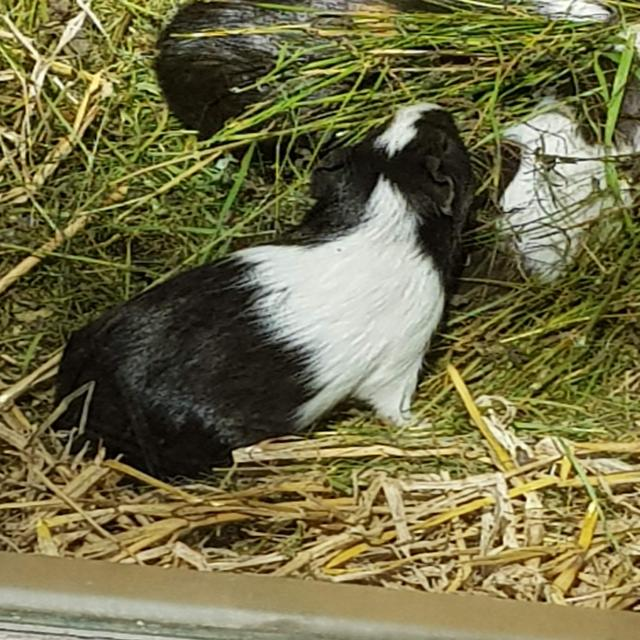guinea pig: (48, 102, 479, 492)
